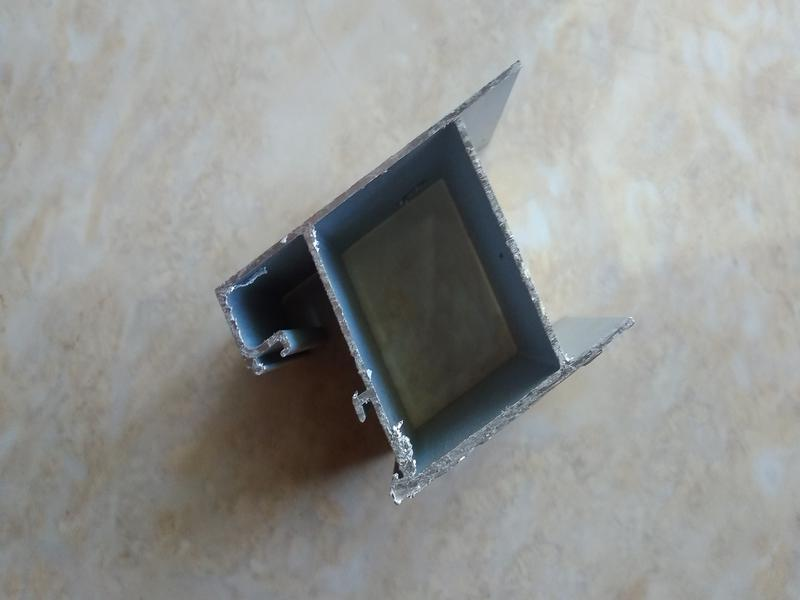Aluminium_2: (178, 38, 677, 524)
